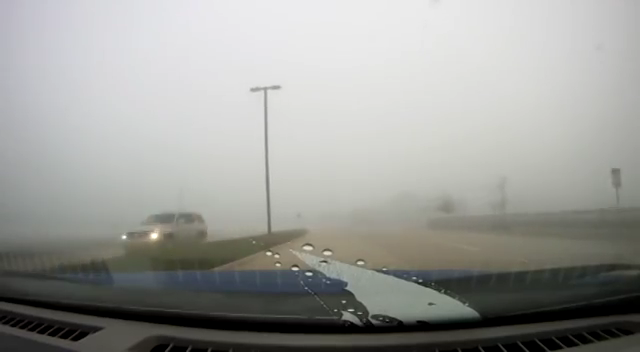car: (119, 211, 208, 254)
